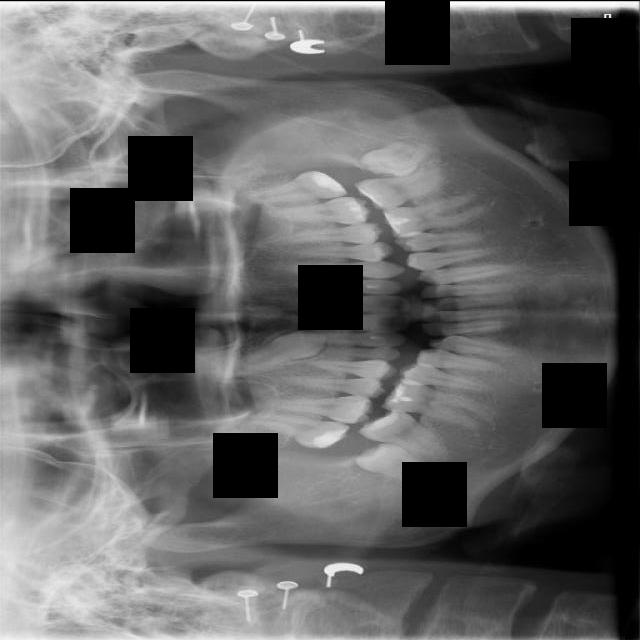52: (355, 397, 418, 452), (352, 164, 409, 220), (294, 410, 355, 461), (381, 369, 434, 423), (294, 159, 352, 208), (381, 199, 427, 241), (325, 391, 375, 426), (326, 192, 371, 229), (351, 354, 399, 385), (398, 360, 438, 386), (349, 240, 395, 261), (354, 329, 406, 347), (350, 277, 402, 295), (405, 250, 443, 272), (344, 377, 385, 397), (395, 230, 431, 251)
73: (616, 12, 624, 20)
BioHorizons Implant: (231, 166, 350, 209)
Biomet 3i Implant: (359, 138, 432, 178)
Blue Sky Bio Implant: (353, 159, 457, 215)
Caries: (246, 409, 351, 452)
Implant: (358, 397, 456, 466)
Keystone Dental Implant: (353, 432, 439, 490)
